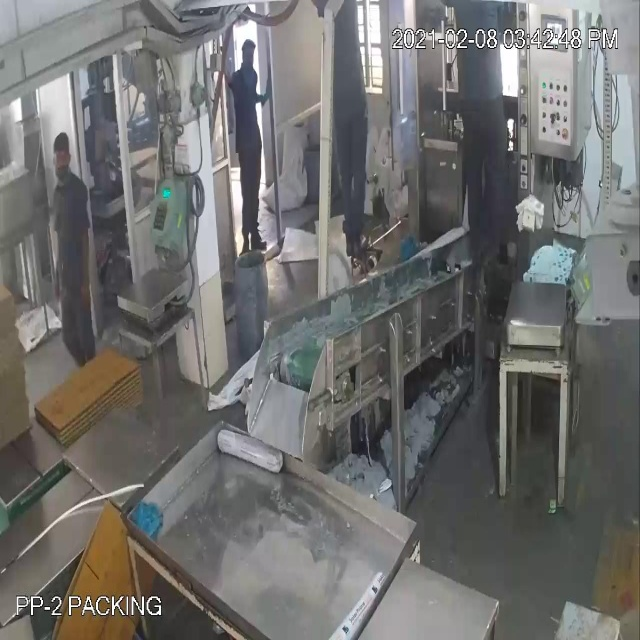Sin_guantes: (70, 212, 99, 319)
